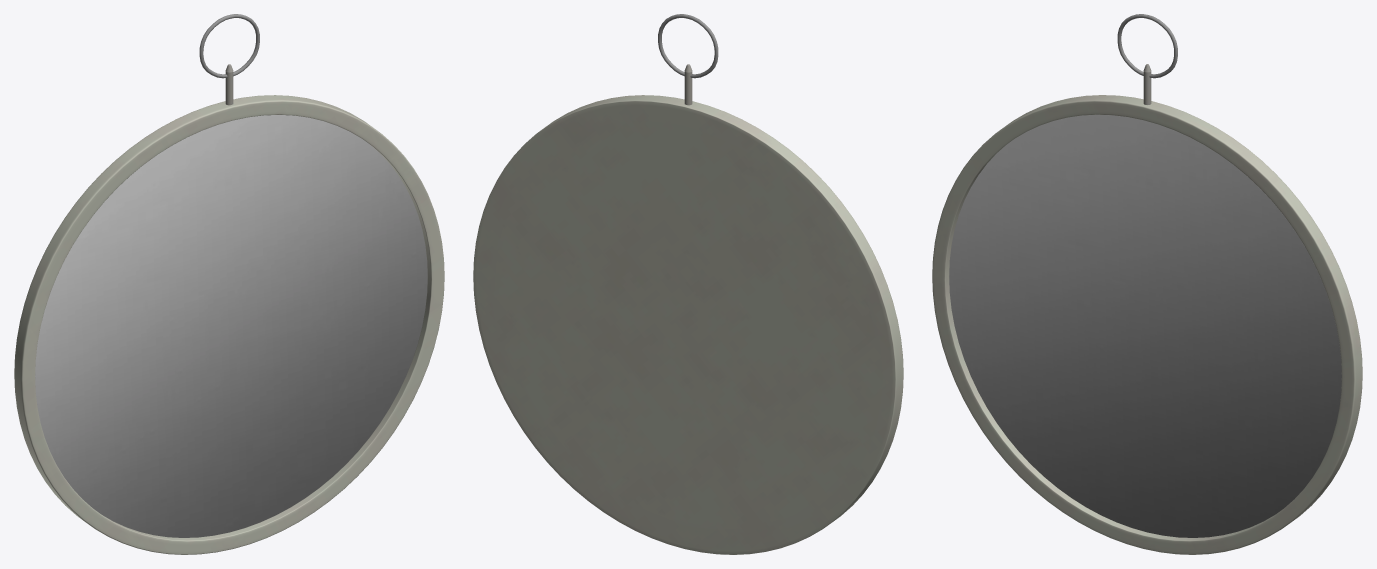
The model's file is B071NHXGFY.glb.
3 views of the same model, side by side, from view 1: azimuth 30°, elevation 25°; view 2: azimuth 150°, elevation 25°; view 3: azimuth 330°, elevation 25° (orthographic).
Visible parts, largest first — view 1: RootNode; view 2: RootNode; view 3: RootNode.
Part boxes in pixels (bbox=[...]): RootNode: bbox=[14, 14, 444, 554]; RootNode: bbox=[473, 14, 903, 554]; RootNode: bbox=[932, 14, 1362, 554].
Bounding box in the file's own units: 0.5944 × 0.713 × 0.0204.
Materials: 1 (1 with a texture image).
